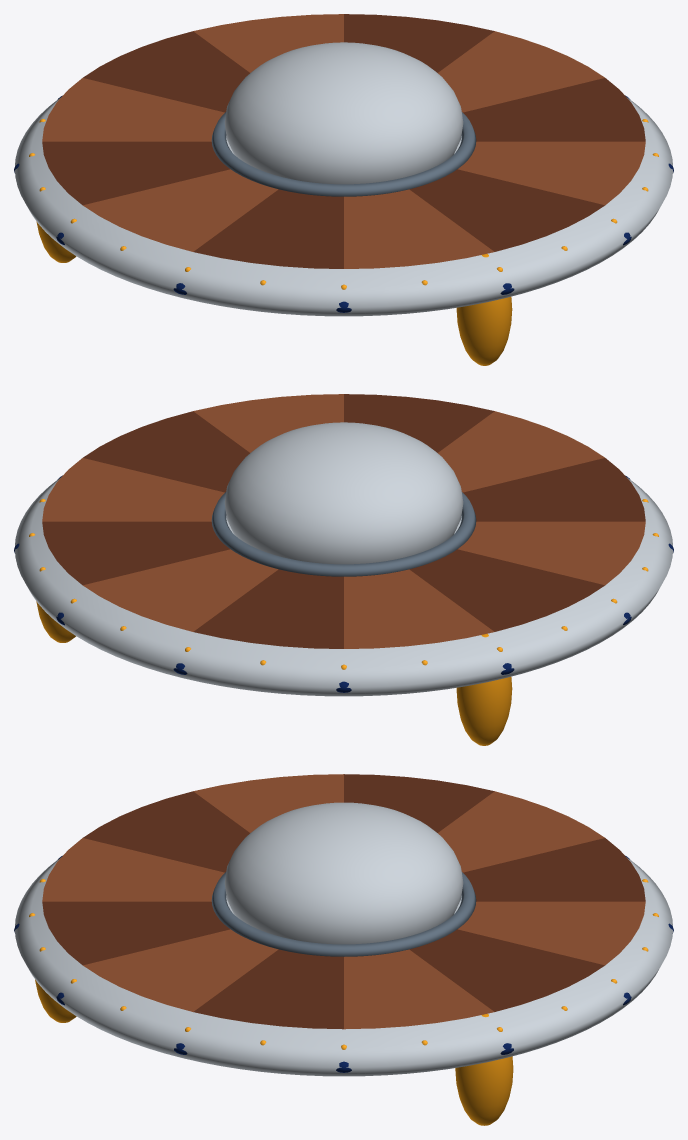
The model's file is freezer_station.obj.
3 renders of one model, top to bottom at view 1: azimuth 30°, elevation 25°; view 2: azimuth 150°, elevation 25°; view 3: azimuth 270°, elevation 25°, orthographic.
Parts seen in each view (by area): view 1: station_disc_white_hull, central_white_cupola, deck_panel_05, deck_panel_10, deck_panel_06, deck_panel_09, deck_panel_07, deck_panel_08, deck_panel_04, deck_panel_11, deck_panel_00, deck_panel_03 (+5 smaller); view 2: station_disc_white_hull, central_white_cupola, deck_panel_01, deck_panel_06, deck_panel_02, deck_panel_05, deck_panel_03, deck_panel_04, deck_panel_00, deck_panel_07, deck_panel_08, deck_panel_11 (+5 smaller); view 3: station_disc_white_hull, central_white_cupola, deck_panel_02, deck_panel_09, deck_panel_01, deck_panel_10, deck_panel_00, deck_panel_11, deck_panel_03, deck_panel_08, deck_panel_04, deck_panel_07 (+5 smaller).
Part boxes in pixels (x1,y1,x2,y2): station_disc_white_hull: [15, 97, 672, 316]; central_white_cupola: [224, 42, 463, 184]; deck_panel_05: [42, 141, 229, 205]; deck_panel_10: [458, 141, 645, 205]; deck_panel_06: [83, 169, 278, 251]; deck_panel_09: [409, 169, 604, 251]; deck_panel_07: [193, 189, 343, 268]; deck_panel_08: [344, 189, 494, 268]; deck_panel_04: [42, 78, 224, 141]; deck_panel_11: [463, 78, 645, 141]; deck_panel_00: [438, 31, 604, 112]; deck_panel_03: [83, 31, 249, 112]; station_disc_white_hull: [15, 477, 672, 696]; central_white_cupola: [224, 422, 463, 564]; deck_panel_01: [42, 521, 229, 585]; deck_panel_06: [458, 521, 645, 585]; deck_panel_02: [83, 549, 278, 631]; deck_panel_05: [409, 549, 604, 631]; deck_panel_03: [193, 569, 343, 648]; deck_panel_04: [344, 569, 494, 648]; deck_panel_00: [42, 458, 224, 521]; deck_panel_07: [463, 458, 645, 521]; deck_panel_08: [438, 411, 604, 492]; deck_panel_11: [83, 411, 249, 492]; station_disc_white_hull: [15, 857, 672, 1076]; central_white_cupola: [224, 802, 463, 944]; deck_panel_02: [458, 901, 645, 965]; deck_panel_09: [42, 901, 229, 965]; deck_panel_01: [409, 929, 604, 1011]; deck_panel_10: [83, 929, 278, 1011]; deck_panel_00: [344, 949, 494, 1029]; deck_panel_11: [193, 949, 343, 1029]; deck_panel_03: [463, 838, 645, 901]; deck_panel_08: [42, 838, 224, 901]; deck_panel_04: [438, 791, 604, 872]; deck_panel_07: [83, 791, 249, 872].
Bounding box in the file's own units: 8.18 × 2.76 × 8.18.
